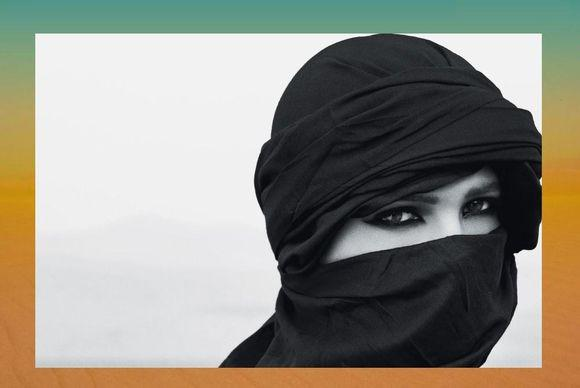OK: (333, 168, 513, 348)
